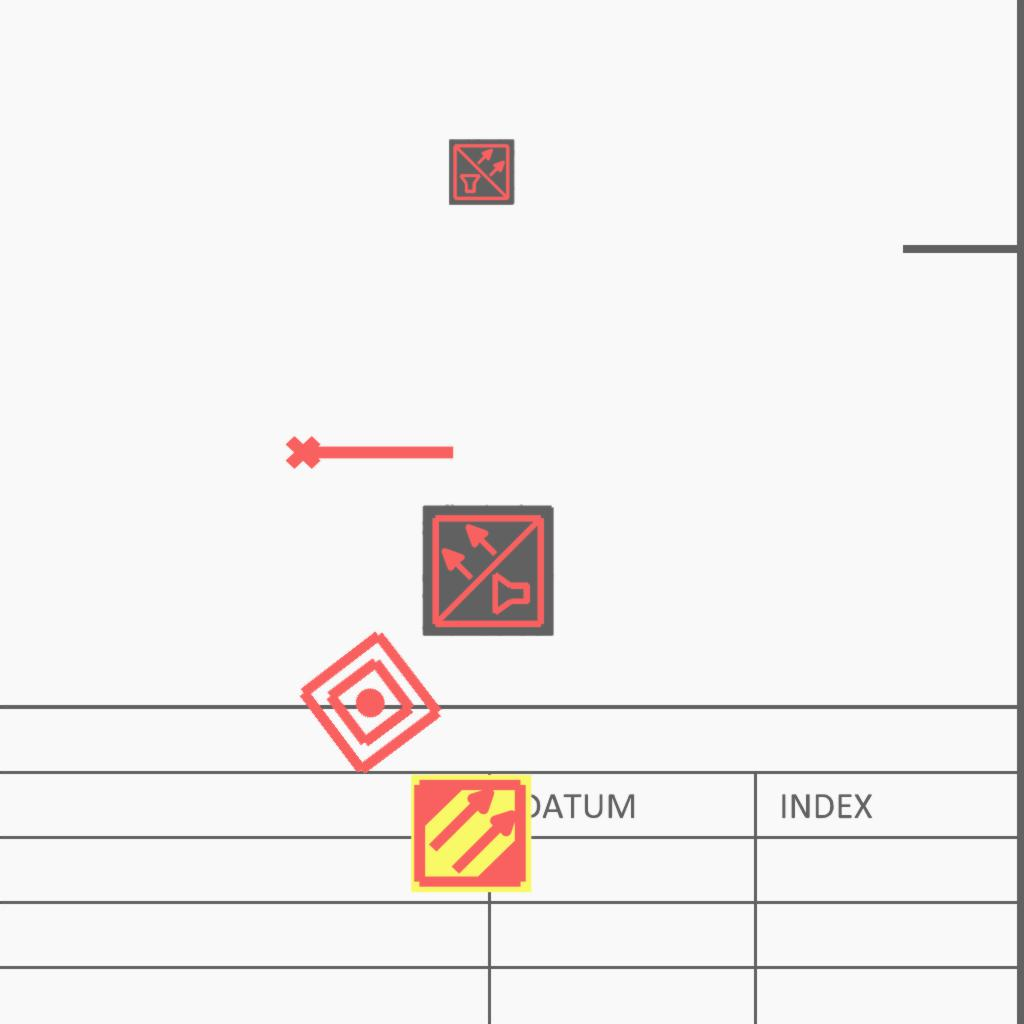ASR_Ansaugoeffnung: (283, 427, 459, 473)
ASR_Ansaugrauchmelder: (409, 771, 534, 896)
NAM-Nichtautomatischer_Melder: (291, 623, 450, 782)
OKW_Multisensormelder_(Kombination_optischer_Rauch-Kahlenmonoxid_Waerme-Melder): (422, 504, 554, 636), (449, 139, 515, 205)
